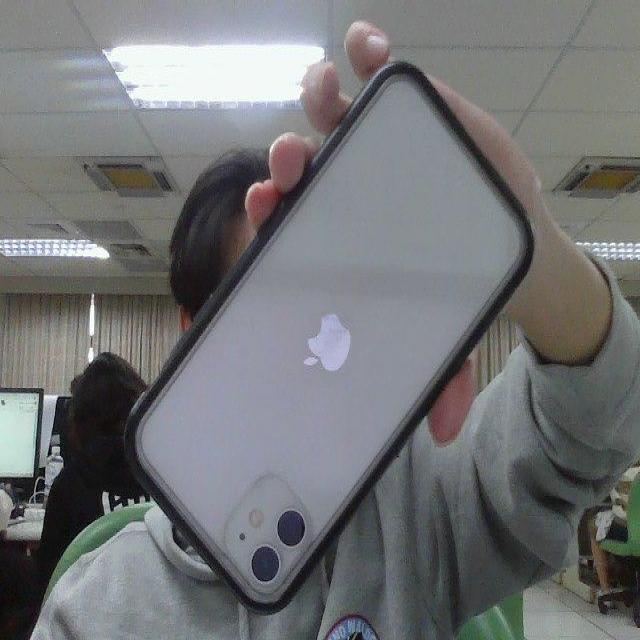ph: (93, 52, 550, 617)
